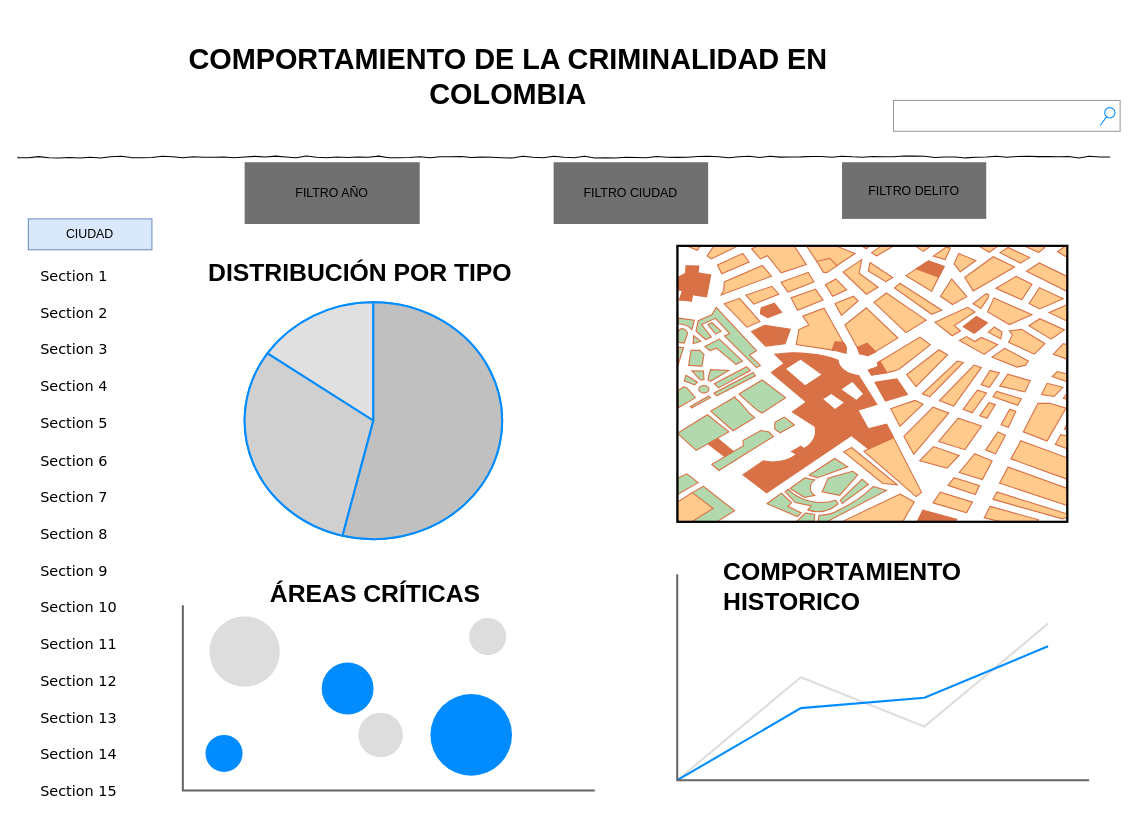
This 1138x818 diagram has some shape labels left out. Here are the shapes that lost their labels. From the top down, the box of each, then its label:
(892, 99, 1120, 131): Search
(676, 245, 1069, 523): UBICACIÓN
